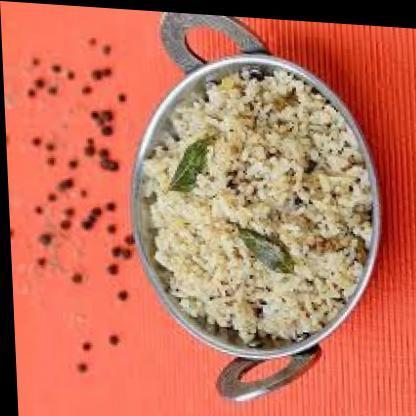poha: (135, 54, 377, 348)
